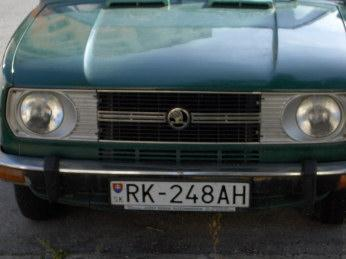placa de veiculo: (106, 170, 257, 214)
